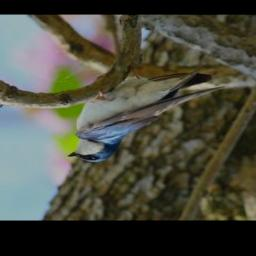Swallow: (67, 62, 226, 163)
